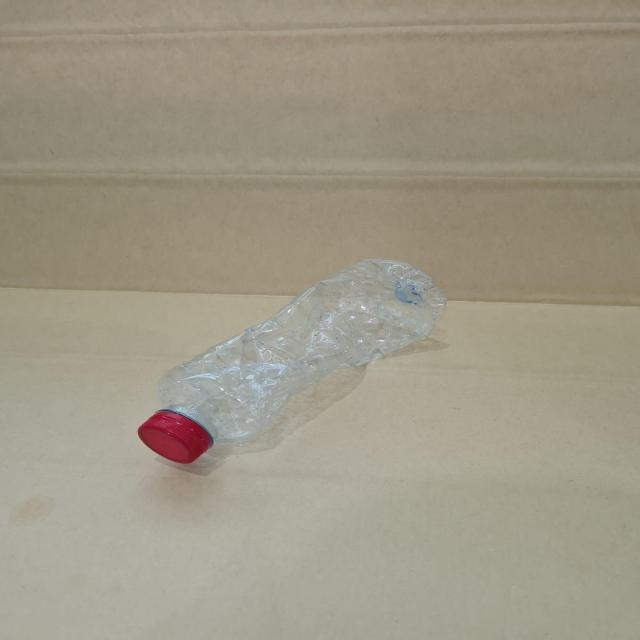bottle: (134, 254, 454, 461)
